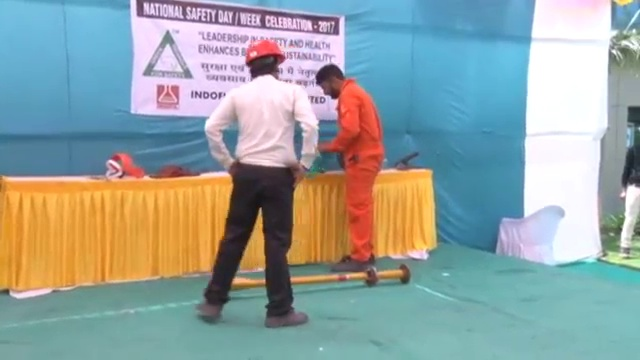helmet: (244, 37, 287, 66)
helmet_off: (314, 62, 348, 100)
helmet_on: (244, 37, 290, 81)
person: (198, 36, 321, 329), (314, 63, 385, 272), (620, 128, 640, 260)
